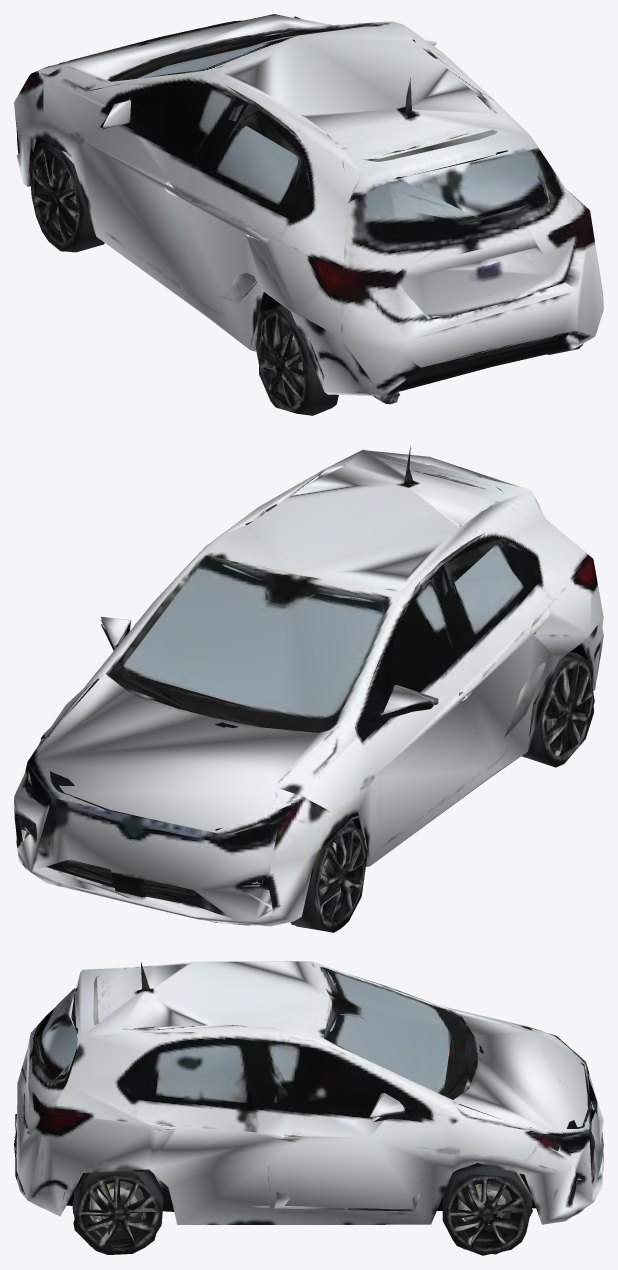
Rendered from car_new_b.glb.
3 renders of one model, top to bottom at view 1: azimuth 30°, elevation 25°; view 2: azimuth 150°, elevation 25°; view 3: azimuth 270°, elevation 25°, orthographic. The views are drawn at different scales.
Parts seen in each view (by area): view 1: world; view 2: world; view 3: world.
Boxes of the visible parts, bbox=[...] form: world: bbox=[14, 14, 603, 415]; world: bbox=[14, 446, 603, 932]; world: bbox=[14, 961, 603, 1255].
Bounding box in the file's own units: 0.5324 × 0.4492 × 0.9957.
Materials: 1 (1 with a texture image).
